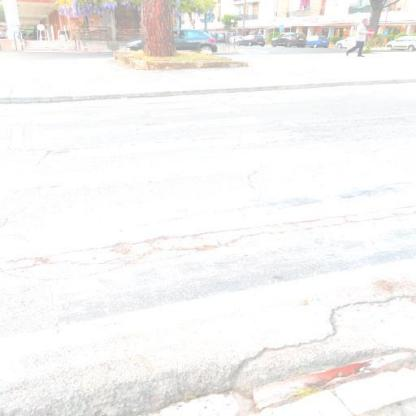crosswalk: (28, 145, 415, 247)
